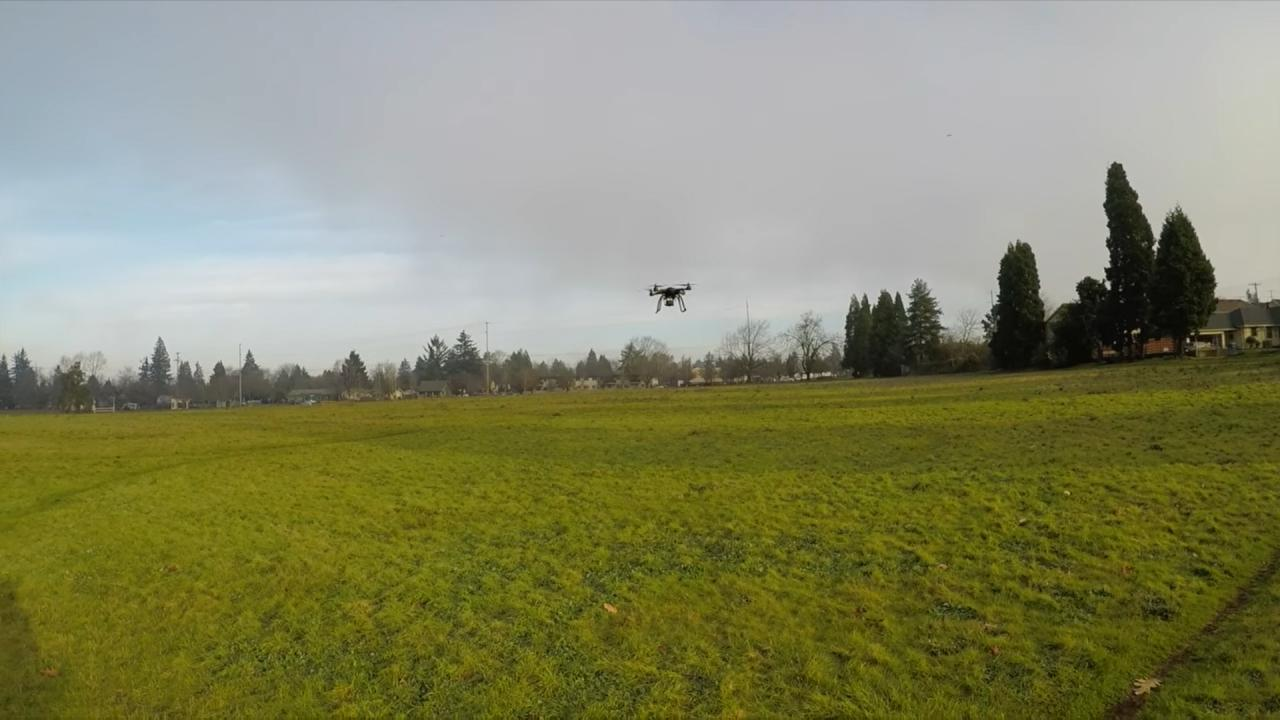Drone: (638, 268, 706, 321)
